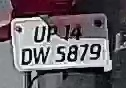1: (62, 23, 71, 40)
4: (71, 23, 82, 43)
5: (56, 45, 67, 66)
7: (80, 43, 89, 63)
8: (67, 42, 78, 65)
9: (90, 42, 103, 64)
D: (20, 46, 32, 65)
P: (48, 24, 58, 44)
U: (32, 23, 46, 44)
W: (32, 46, 51, 65)
